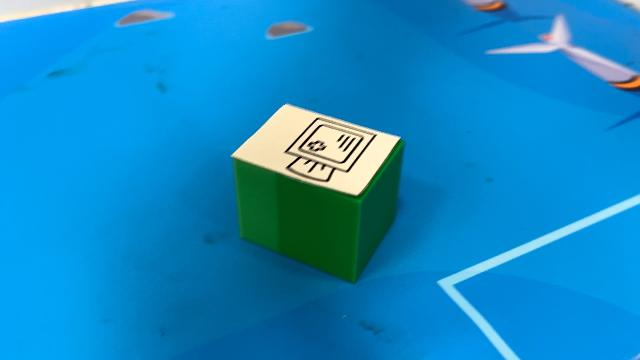napkin: (229, 100, 407, 284)
